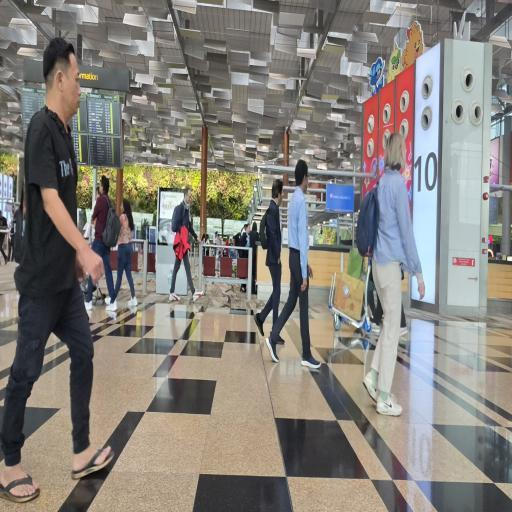person_left: (92, 167, 114, 302), (118, 192, 138, 312)
person_right: (14, 38, 108, 486), (358, 134, 418, 409), (277, 158, 317, 379), (170, 181, 206, 307), (258, 177, 280, 341)
